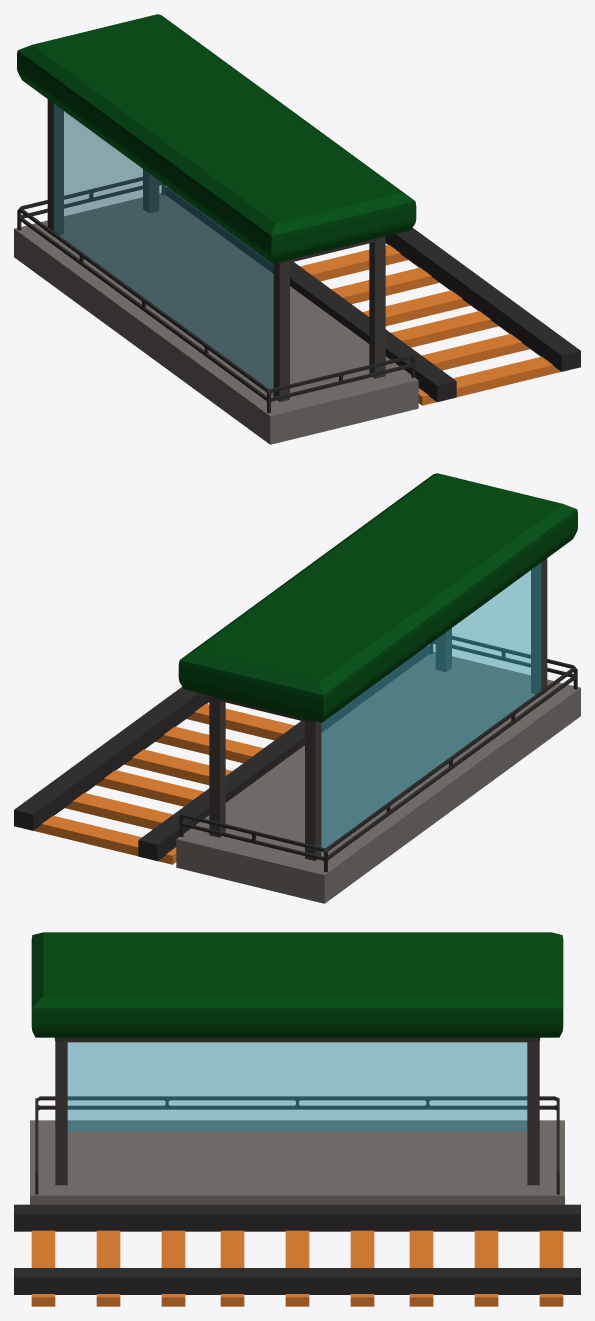
Rendered from Estacao.glb.
3 views of the same model, one above another, from view 1: azimuth 30°, elevation 25°; view 2: azimuth 150°, elevation 25°; view 3: azimuth 270°, elevation 25° (orthographic). The views are drawn at different scales.
Visible parts, largest first — view 1: Estacao; view 2: Estacao; view 3: Estacao.
Part boxes in pixels (box(x1,y1,x2,y2)): Estacao: box(14, 14, 580, 444); Estacao: box(14, 473, 580, 903); Estacao: box(14, 932, 580, 1306).
Bounding box in the file's own units: 1.97 × 1.31 × 3.
